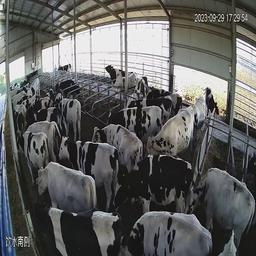cow: (190, 168, 251, 251), (35, 185, 111, 249), (112, 152, 187, 212), (104, 211, 201, 253), (144, 104, 195, 164), (60, 137, 109, 194), (26, 155, 75, 201), (84, 120, 134, 161), (107, 102, 161, 130), (54, 94, 82, 136), (203, 87, 224, 132), (29, 111, 52, 149), (13, 128, 46, 153), (27, 88, 50, 118), (114, 70, 136, 92), (55, 72, 75, 95), (55, 55, 74, 78), (134, 72, 148, 92)
